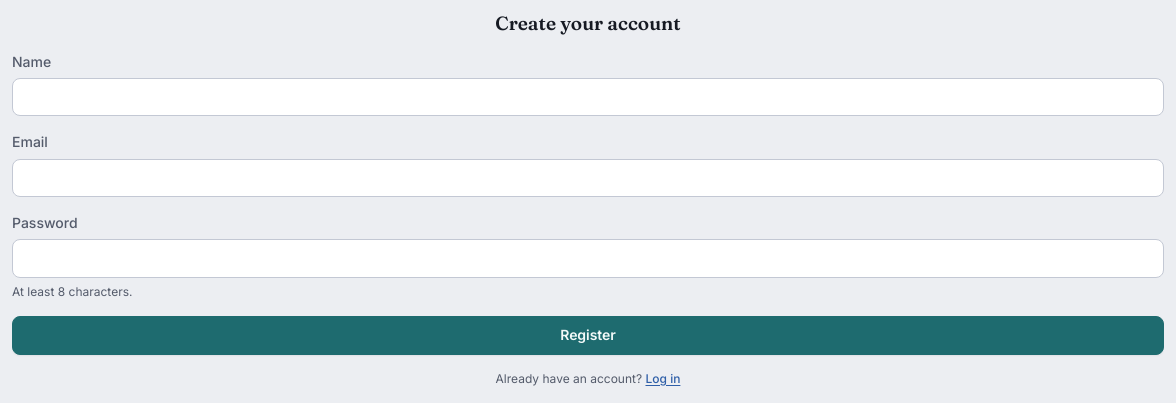
it: RegisterForm › rejects a password shorter than 8 characters before hitting the network
Type "Ada Lovelace" into the field labelled "Name" at (588, 97), box [12,78,1164,116]
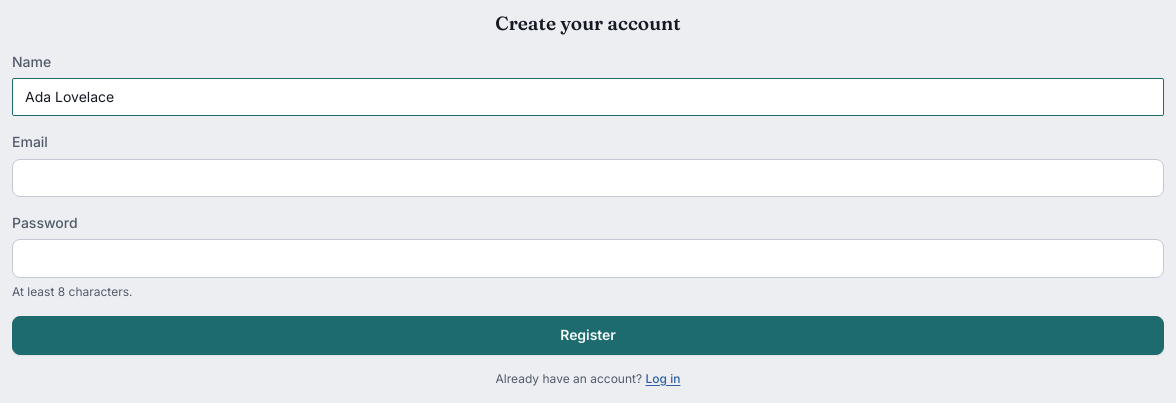
Type "ada@example.com" into the field labelled "Email" at (588, 178), box [12,159,1164,197]
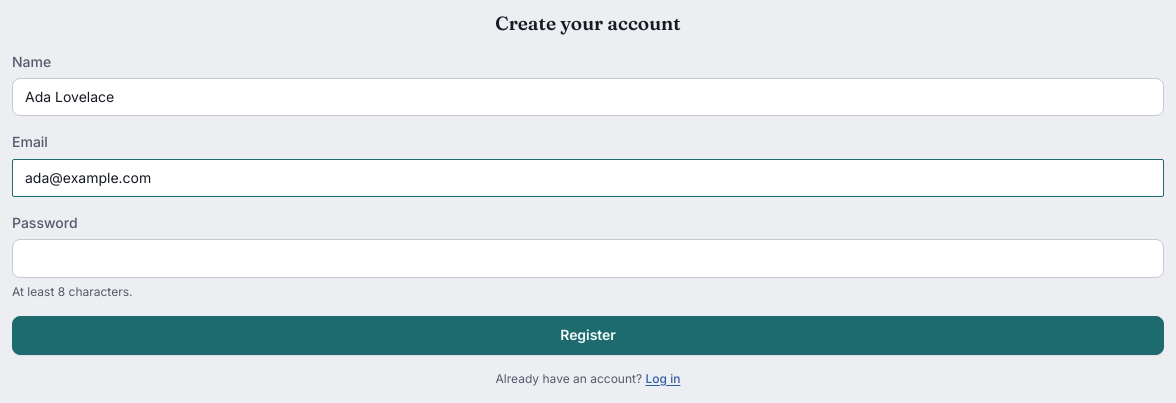
Type "short" into the password field labelled "Password" at (588, 258), box [12,239,1164,278]
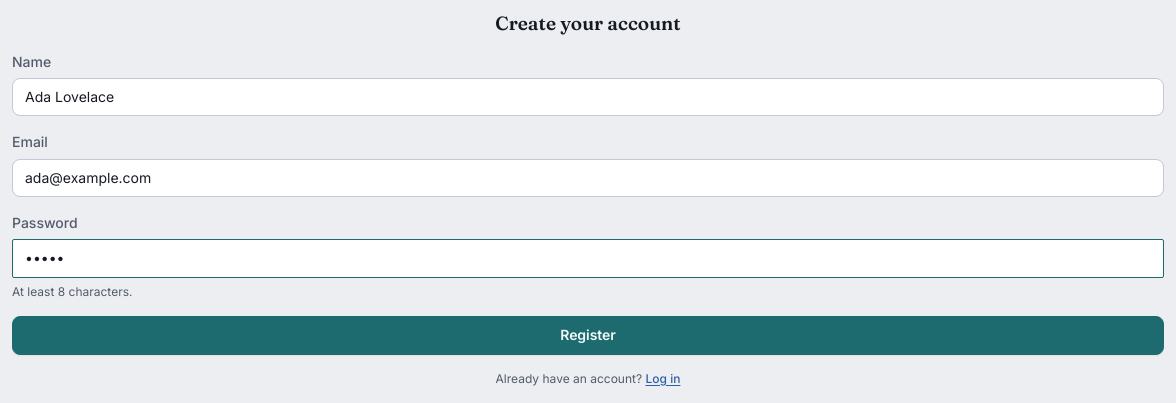
Click the button "Register" at (588, 335), box [12,316,1164,355]
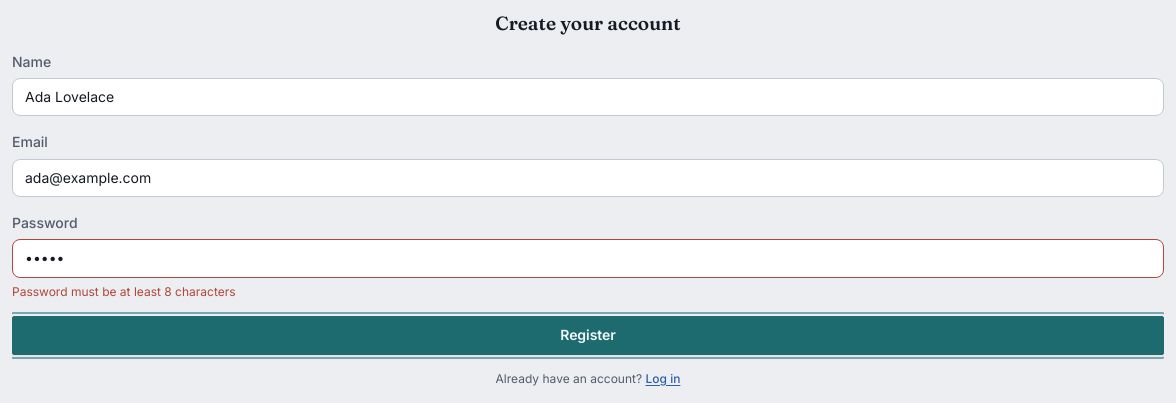
Now the text "Password must be at least 8 characters" is shown, box [12,284,236,298]
